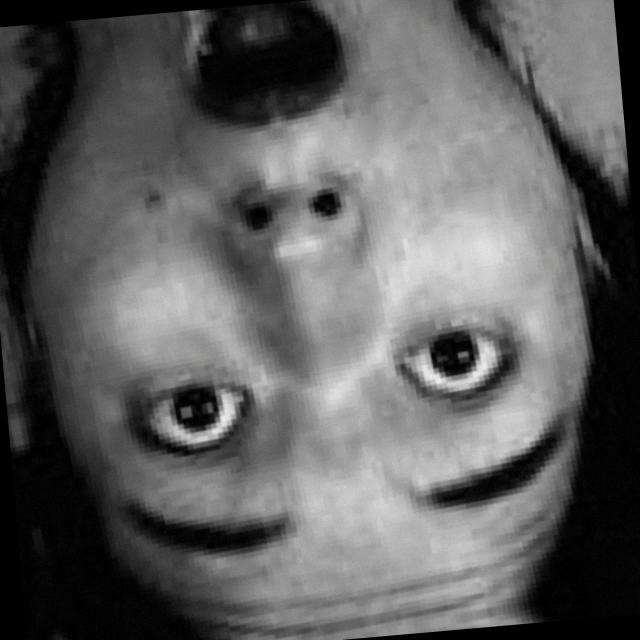surprise: (21, 0, 620, 622)
